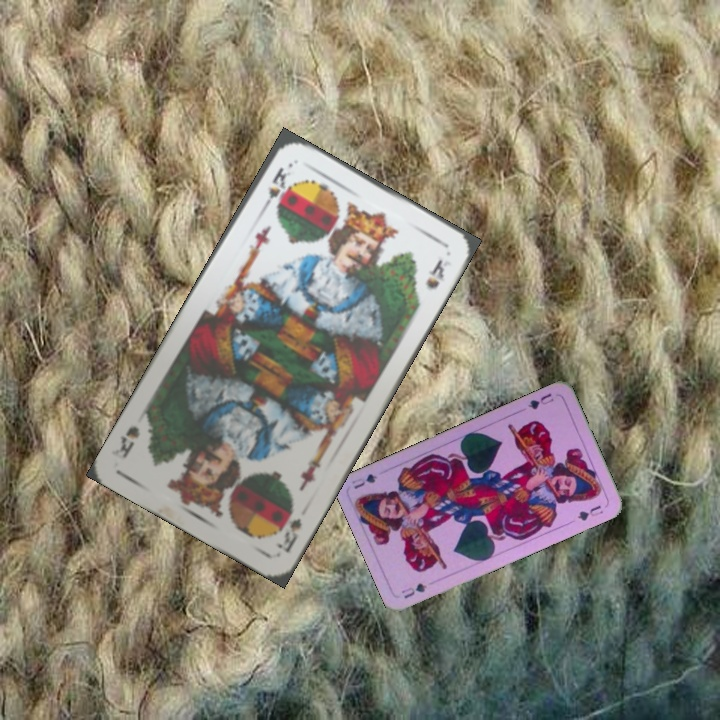GU: (524, 389, 556, 412), (397, 579, 429, 601)
SK: (257, 163, 294, 213), (271, 505, 305, 556)
